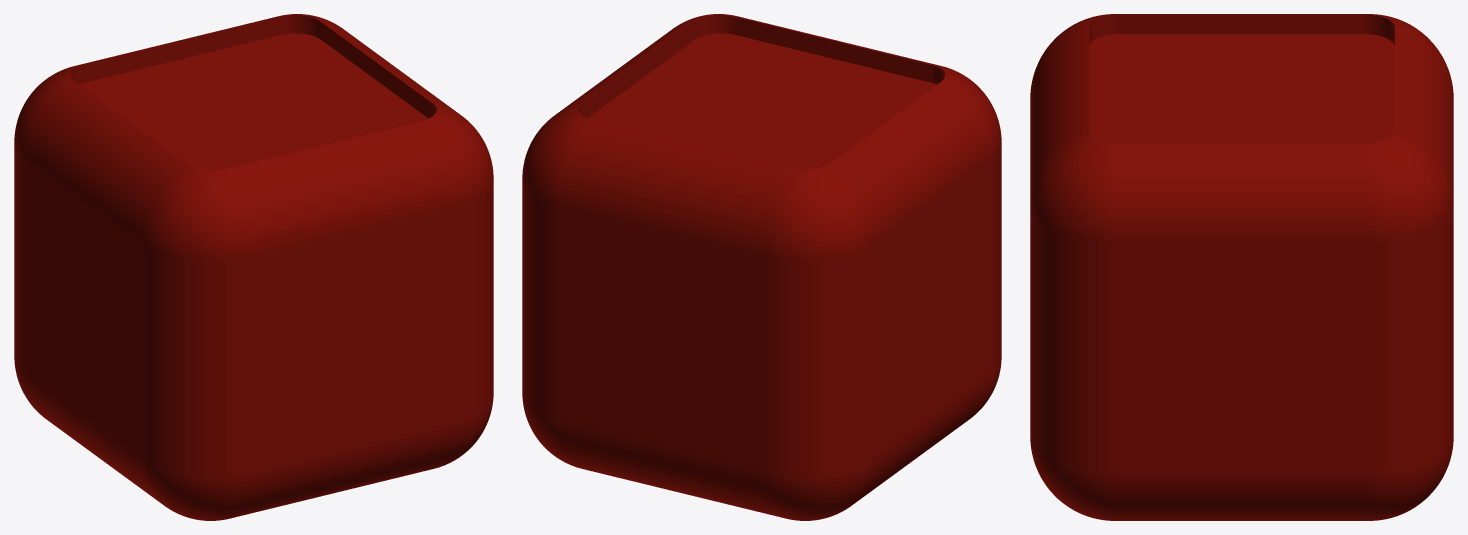
3 renders of one model, left to right at view 1: azimuth 30°, elevation 25°; view 2: azimuth 150°, elevation 25°; view 3: azimuth 270°, elevation 25°, orthographic. The views are drawn at different scales.
Parts seen in each view (by area): view 1: Cube; view 2: Cube; view 3: Cube.
Boxes of the visible parts, left/top/right/bottom form: Cube: left=14, top=14, right=493, bottom=520; Cube: left=522, top=14, right=1001, bottom=520; Cube: left=1030, top=14, right=1453, bottom=520.
Size of the model in its own units: 2 by 1.98 by 2.
